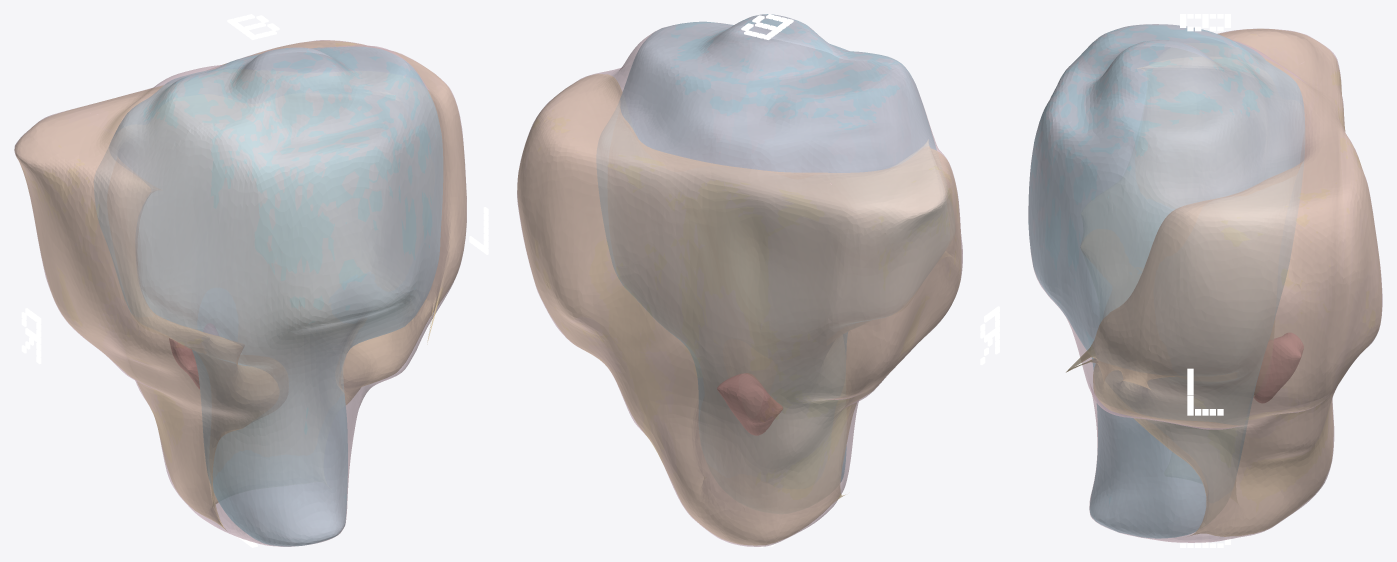
The picture shows the model from 3 angles, left to right: view 1: azimuth 30°, elevation 25°; view 2: azimuth 150°, elevation 25°; view 3: azimuth 270°, elevation 25°; orthographic projection.
Parts seen in each view (by area): view 1: prostate_gland, transition_zone, peripheral_zone, lesion_01, pv_ar_marker_B, pv_ar_marker_R; view 2: prostate_gland, peripheral_zone, transition_zone, lesion_01, pv_ar_marker_B, pv_ar_marker_R; view 3: prostate_gland, peripheral_zone, transition_zone, lesion_01, pv_ar_marker_B, pv_ar_marker_L.
Part boxes in pixels (box(x1,y1,x2,y2)): prostate_gland: box(14, 40, 466, 546); transition_zone: box(94, 47, 442, 546); peripheral_zone: box(15, 41, 466, 530); lesion_01: box(169, 324, 218, 388); pv_ar_marker_B: box(227, 14, 279, 39); pv_ar_marker_R: box(21, 308, 41, 364); prostate_gland: box(517, 14, 962, 546); peripheral_zone: box(517, 74, 961, 545); transition_zone: box(596, 14, 937, 481); lesion_01: box(717, 373, 782, 435); pv_ar_marker_B: box(741, 14, 793, 39); pv_ar_marker_R: box(980, 306, 999, 364); prostate_gland: box(1028, 24, 1382, 542); peripheral_zone: box(1066, 29, 1381, 536); transition_zone: box(1028, 24, 1304, 538); lesion_01: box(1254, 333, 1303, 402); pv_ar_marker_B: box(1180, 14, 1230, 31); pv_ar_marker_L: box(1187, 368, 1223, 415).
Size of the model in its own units: 0.0577 by 0.0626 by 0.0387.
